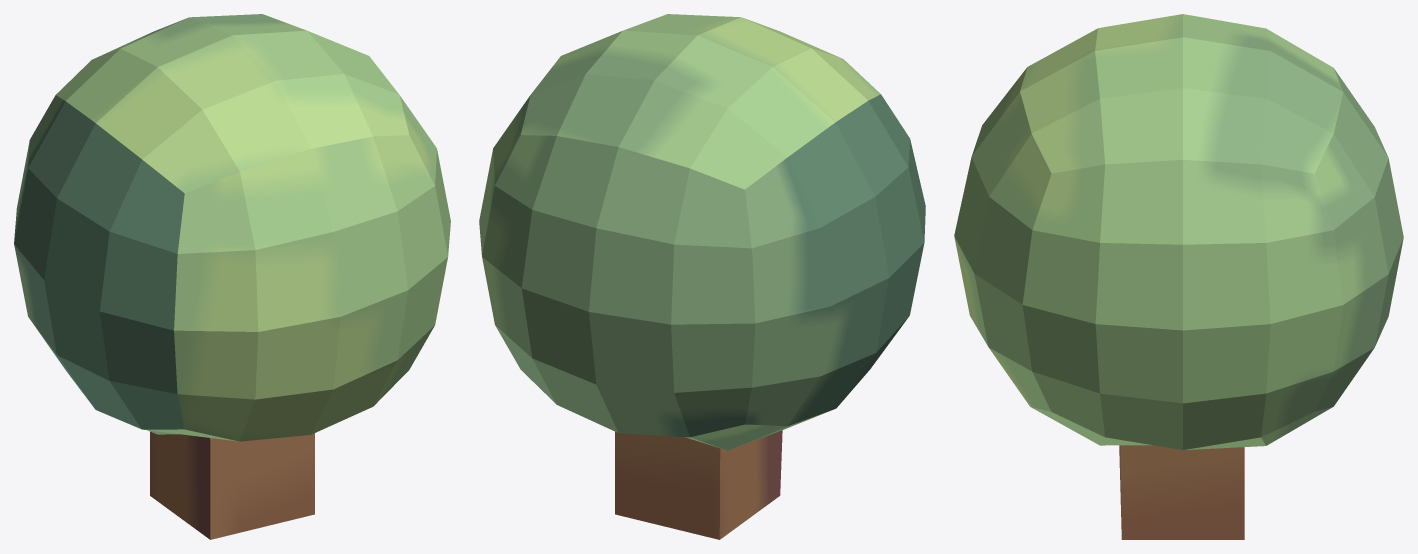
Rendered from tree.fbx.
3 views of the same model, side by side, from view 1: azimuth 30°, elevation 25°; view 2: azimuth 150°, elevation 25°; view 3: azimuth 270°, elevation 25° (orthographic).
Visible parts, largest first — view 1: Cube; view 2: Cube; view 3: Cube.
Boxes of the visible parts, bbox=[...] form: Cube: bbox=[14, 14, 450, 539]; Cube: bbox=[479, 14, 925, 539]; Cube: bbox=[954, 14, 1403, 539].
Bounding box in the file's own units: 111 × 131 × 112.
Materials: 1 (1 with a texture image).
